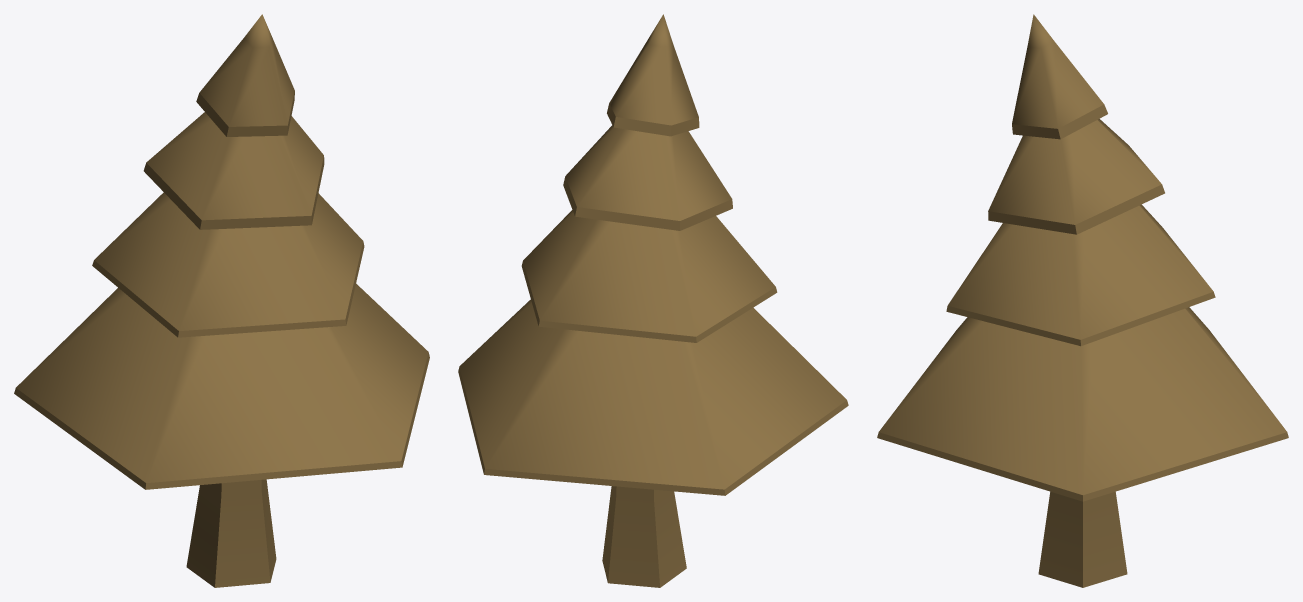
Rendered from Tree.fbx.
3 views of the same model, side by side, from view 1: azimuth 30°, elevation 25°; view 2: azimuth 150°, elevation 25°; view 3: azimuth 270°, elevation 25° (orthographic). The views are drawn at different scales.
Visible parts, largest first — view 1: pCylinder1, pCylinder1.001; view 2: pCylinder1, pCylinder1.001; view 3: pCylinder1, pCylinder1.001.
Part boxes in pixels (x1,y1,x2,y2): pCylinder1: (14,14,429,489); pCylinder1.001: (186,479,276,587); pCylinder1: (458,14,848,495); pCylinder1.001: (602,486,686,587); pCylinder1: (877,14,1288,501); pCylinder1.001: (1038,491,1127,587).
Bounding box in the file's own units: 8.36 × 13.08 × 8.79.
